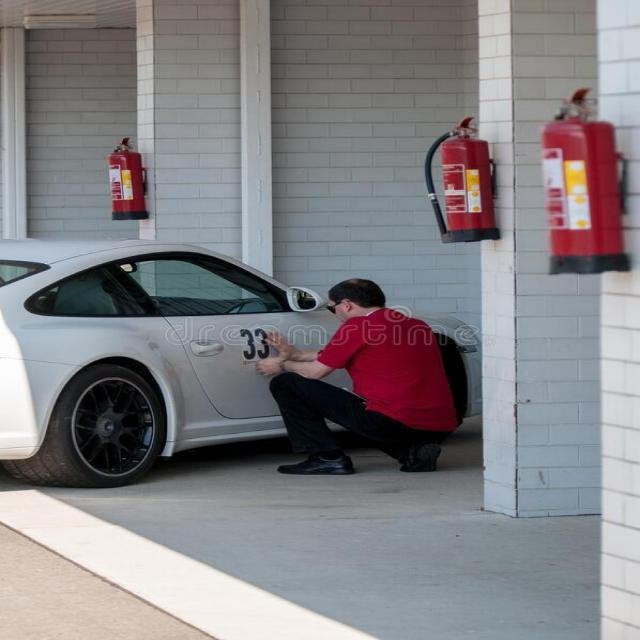fire_extinguisher: (540, 86, 636, 277), (421, 114, 506, 245), (103, 135, 154, 222)
